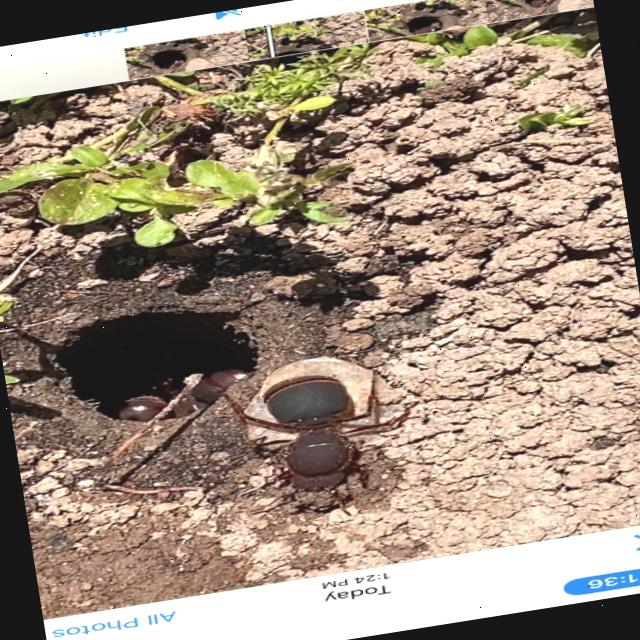Alive-Female-Dealate: (200, 346, 438, 536)
